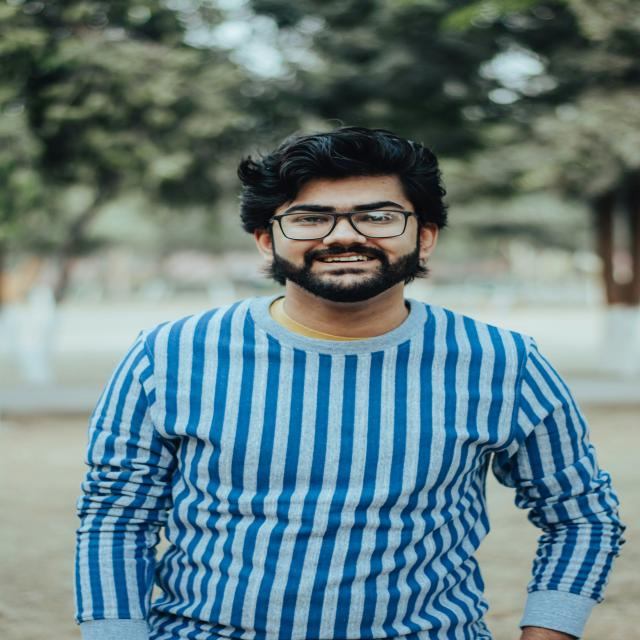human: (69, 113, 640, 640)
